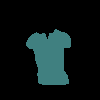polo: (26, 28, 71, 85)
